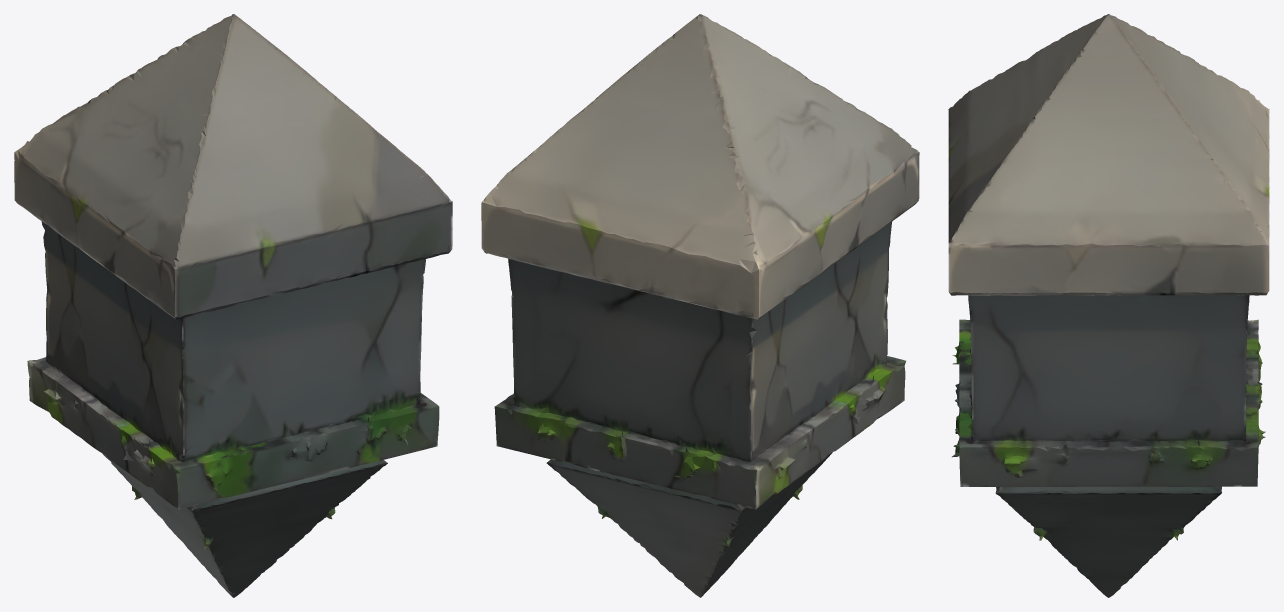
File: rodin_Lab_TombChest_raw.glb
3 views of the same model, side by side, from view 1: azimuth 30°, elevation 25°; view 2: azimuth 150°, elevation 25°; view 3: azimuth 270°, elevation 25° (orthographic).
Visible parts, largest first — view 1: model; view 2: model; view 3: model.
Boxes of the visible parts, box(x1,y1,x2,y2) form: model: box(14, 14, 452, 597); model: box(481, 14, 919, 597); model: box(948, 14, 1269, 597).
Bounding box in the file's own units: 0.9449 × 1.9 × 0.9455.
1 material, 1 textured.
